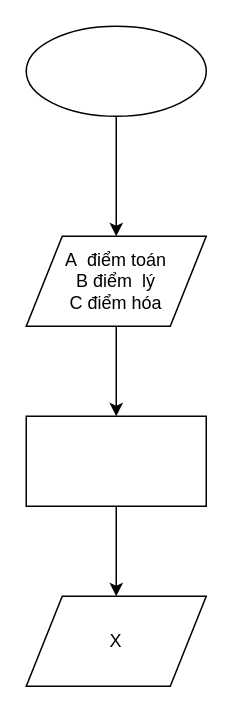
This 233x713 diagram has some shape labels left out. Each missing label, with the centre of its shape:
"Begin" belongs at point (115, 70).
"x=(A+B+C)/3" belongs at point (115, 460).
